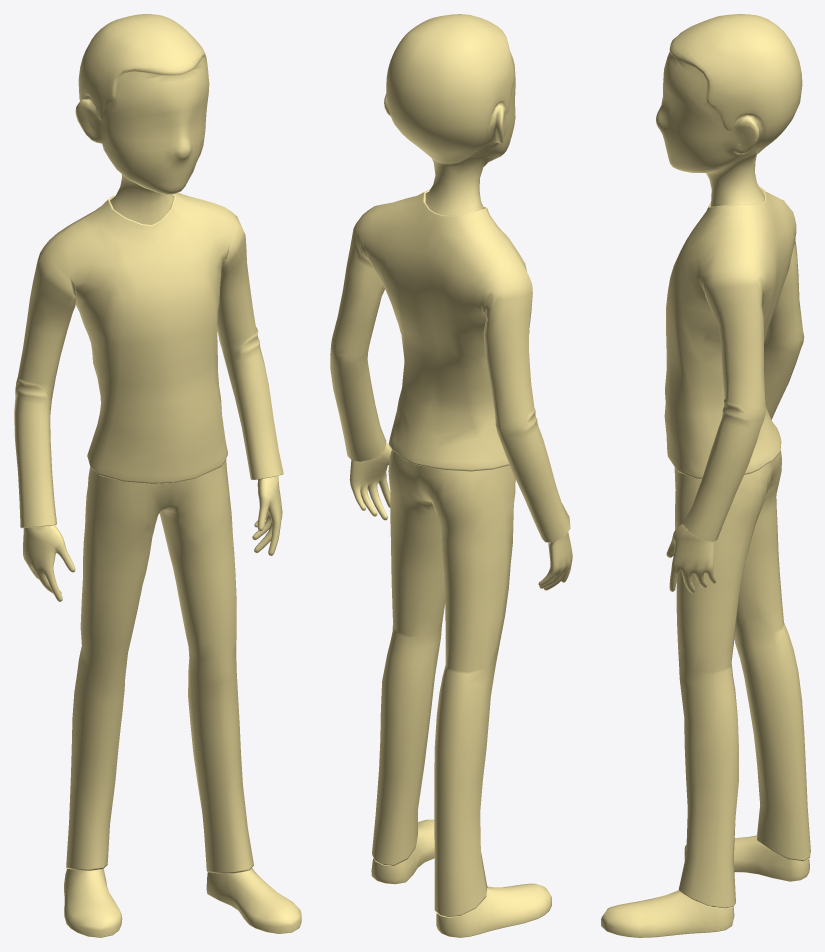
Rendered from male_new_dummy.glb.
The picture shows the model from 3 angles, left to right: view 1: azimuth 30°, elevation 25°; view 2: azimuth 150°, elevation 25°; view 3: azimuth 270°, elevation 25°; orthographic projection.
Visible parts, largest first — view 1: mesh_id27; view 2: mesh_id27; view 3: mesh_id27.
Part boxes in pixels (x1,y1,x2,y2): mesh_id27: (14, 14, 301, 937); mesh_id27: (330, 14, 572, 937); mesh_id27: (601, 14, 810, 937).
Size of the model in its own units: 0.1472 by 0.52 by 0.1139.
Materials: 1 (1 with a texture image).
